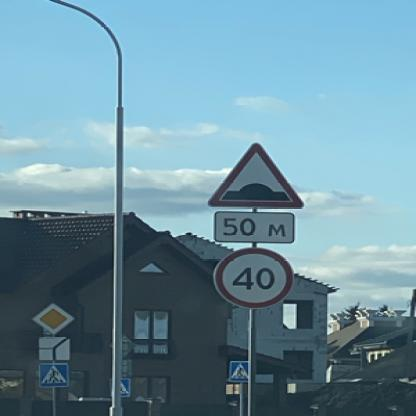Speed Limit 40: (218, 245, 292, 306)
